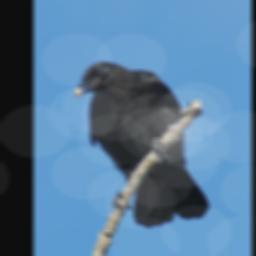Crow: (72, 60, 210, 229)
